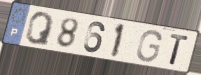1: (108, 23, 126, 59)
6: (83, 20, 106, 54)
8: (56, 17, 80, 49)
G: (135, 29, 163, 63)
Q: (24, 11, 56, 47)
T: (168, 33, 191, 67)
